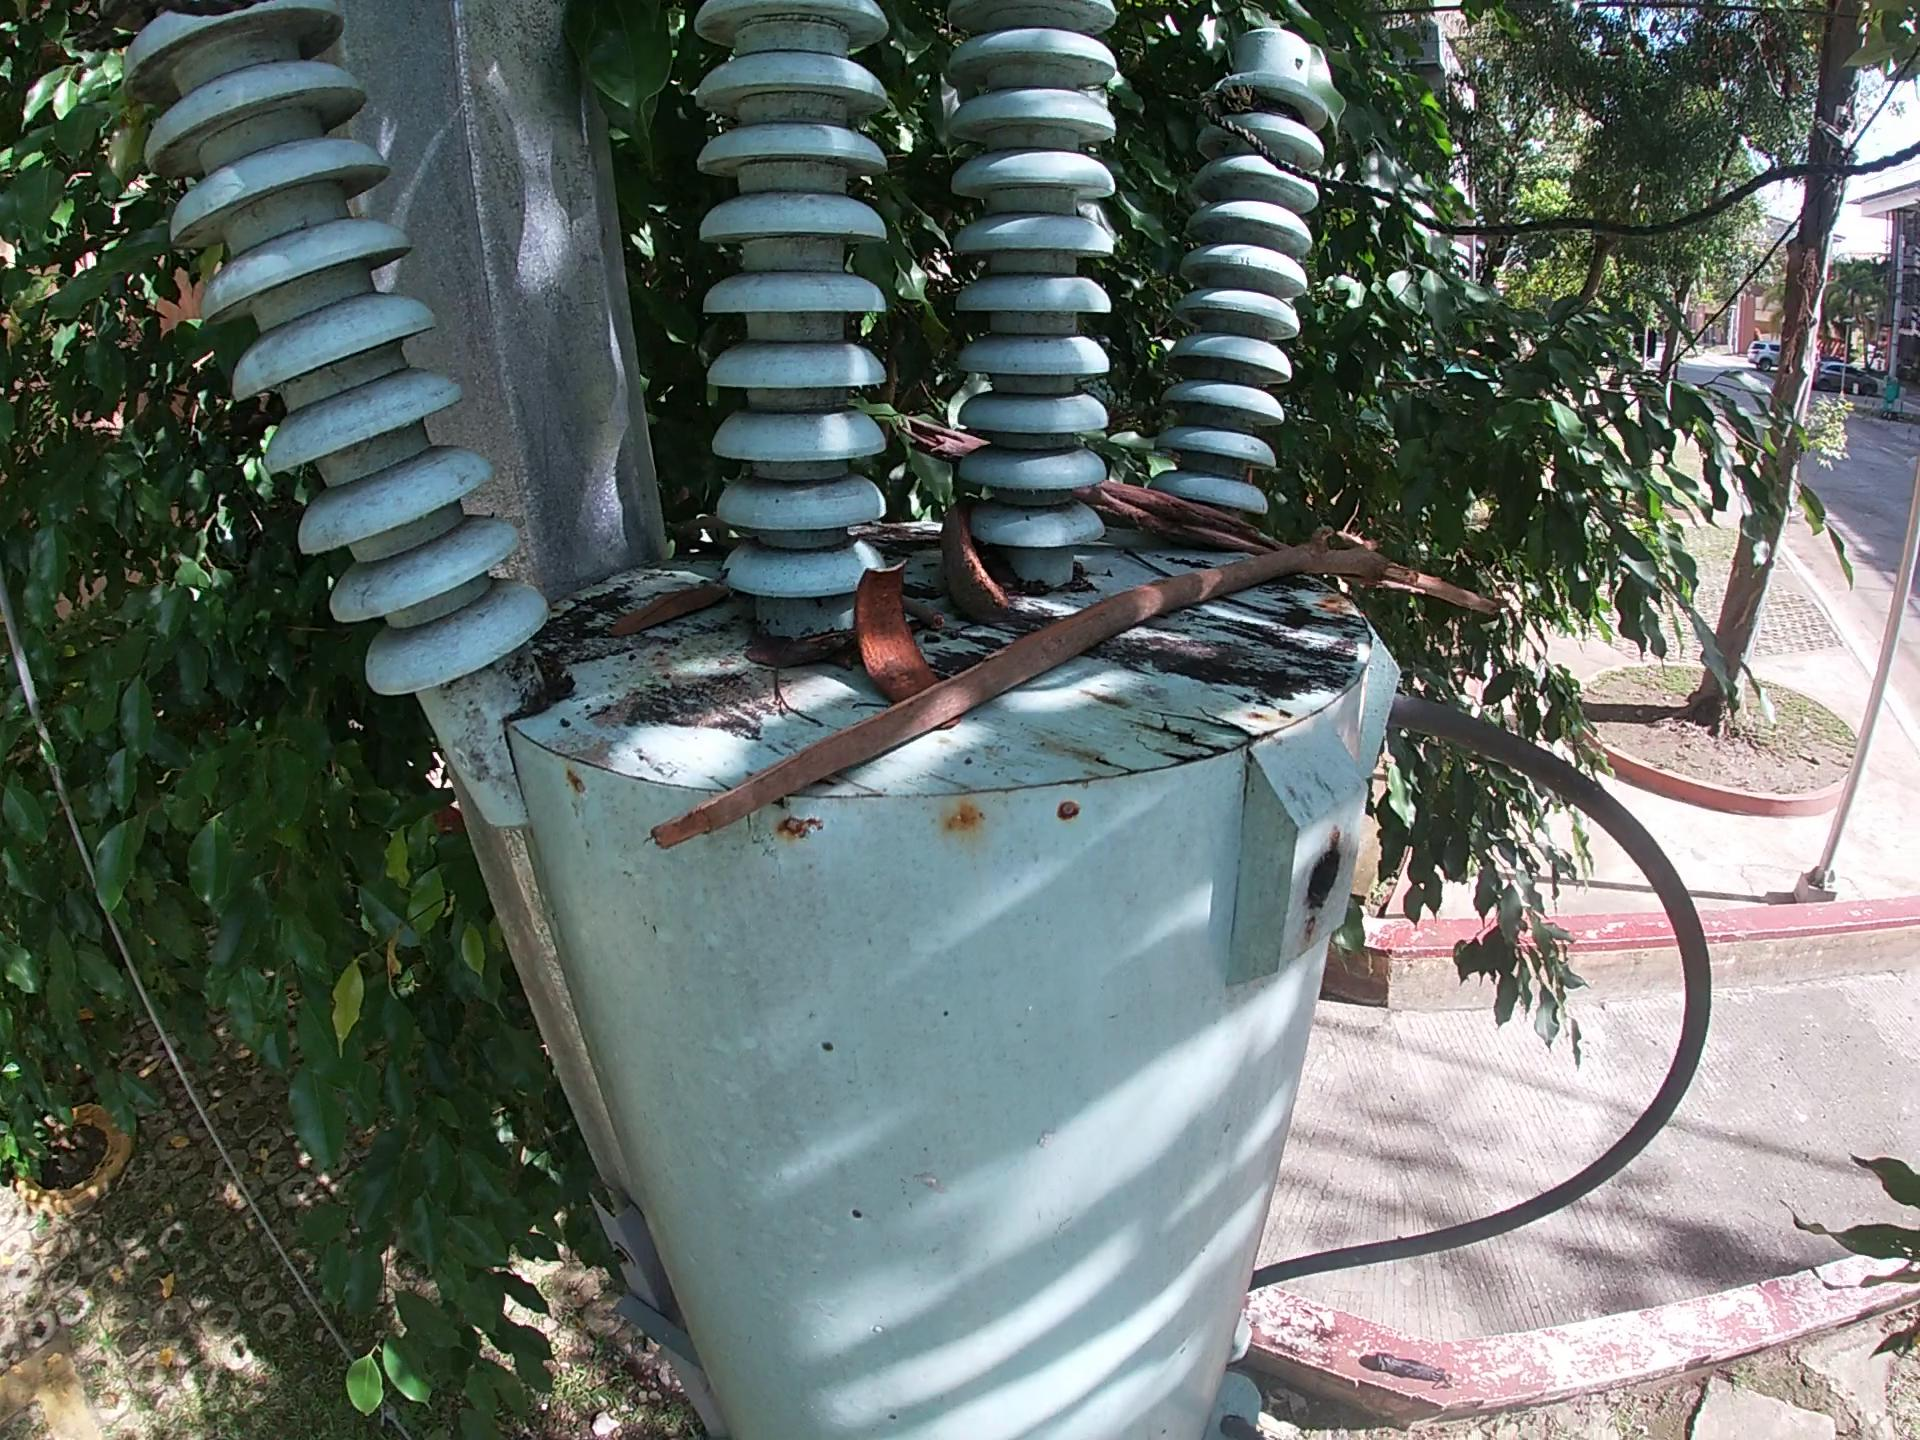leaf: (621, 569, 766, 644), (748, 623, 863, 676)
mahogany fruit: (851, 563, 927, 705), (934, 492, 1014, 619)
tree branch: (636, 499, 1522, 855), (1087, 470, 1306, 557), (884, 410, 993, 457), (770, 682, 850, 726), (1234, 591, 1312, 628), (1126, 548, 1179, 579), (907, 597, 951, 632)
